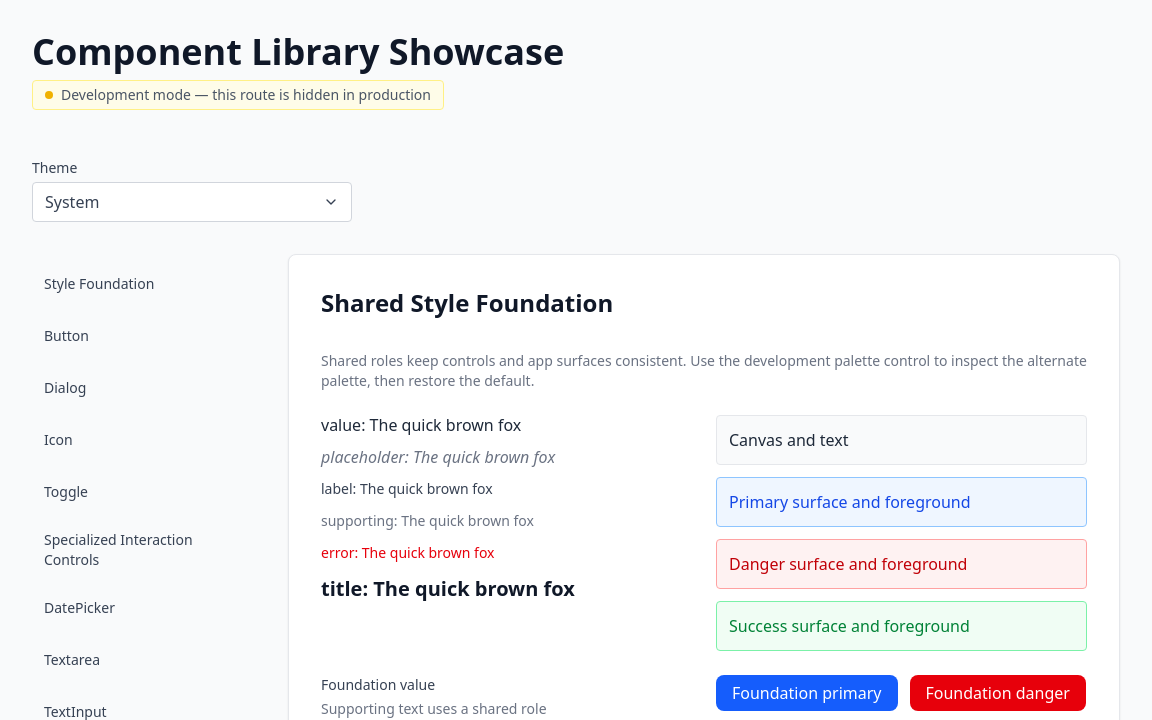
Test case: ComponentsPage theme selector › offers local system, light, dark, and diagnostic modes
Click the dropdown labelled "Theme".
click(180, 202)  # box [45, 192, 315, 212]
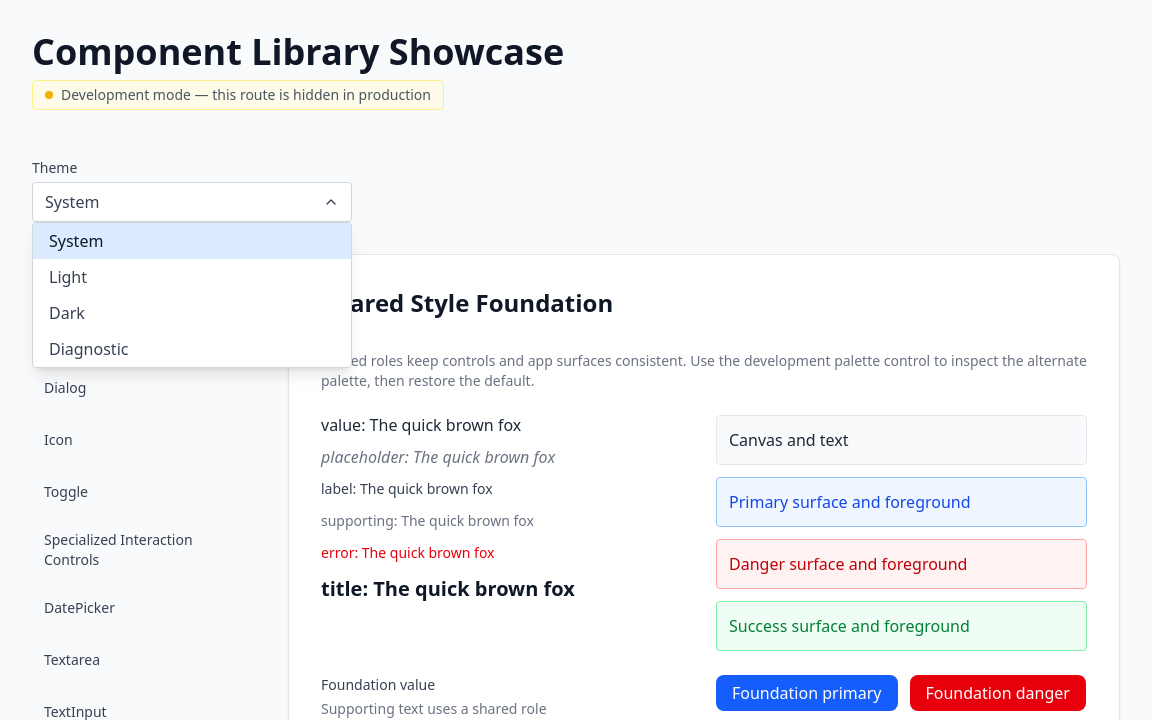
Result: the option "System" is shown at [33, 223, 351, 259]
Result: the option "Light" is shown at [33, 259, 351, 295]
Result: the option "Dark" is shown
Click the option "Dark".
click(67, 313)  # box [33, 295, 351, 331]
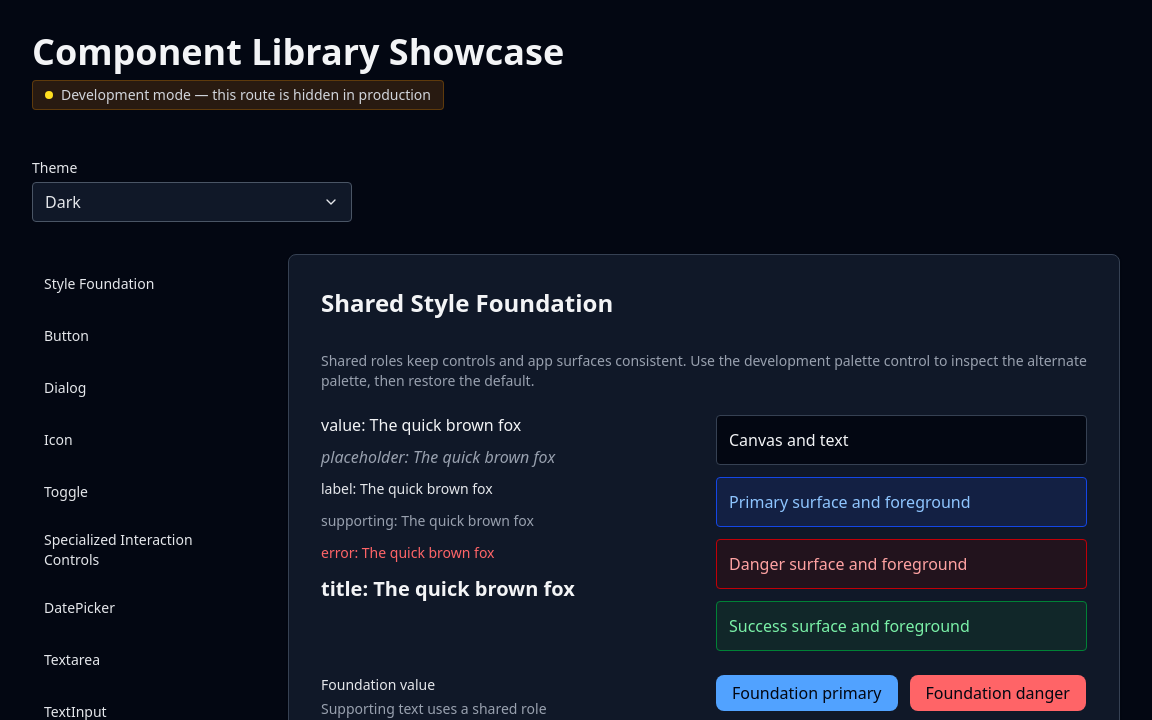
Result: the dropdown labelled "Theme" holds "Dark"
Click the dropdown labelled "Theme".
click(180, 202)  # box [45, 192, 315, 212]
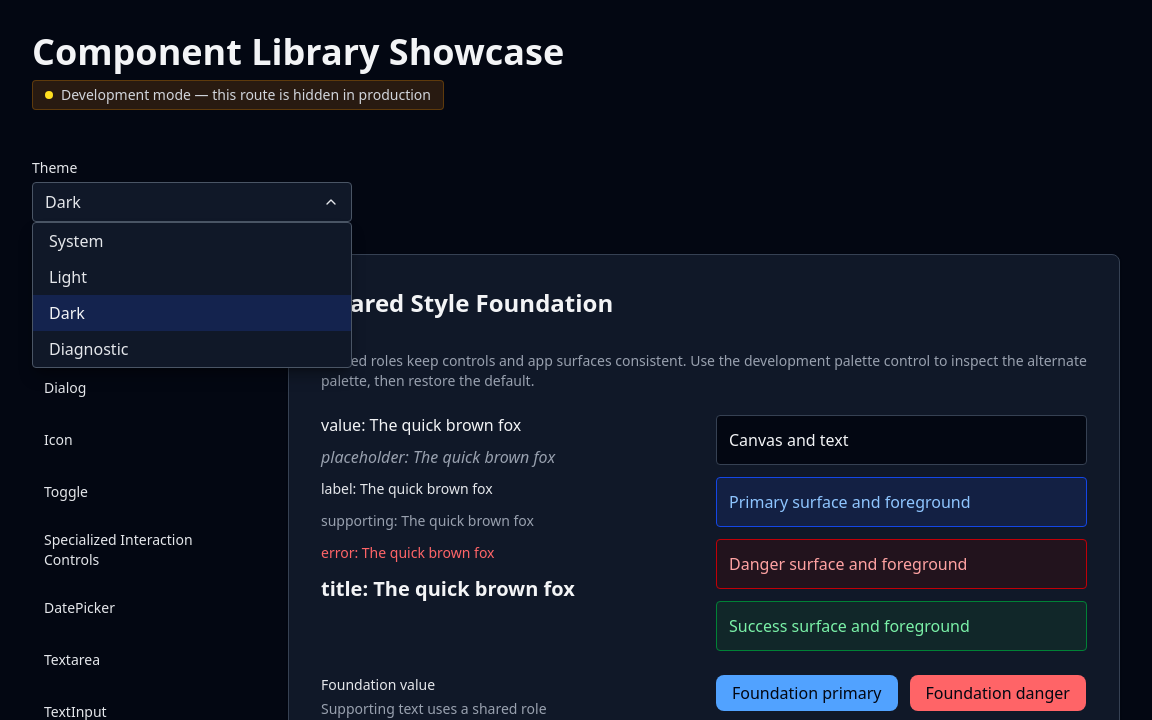
Click the option "Diagnostic".
click(89, 349)  # box [33, 331, 351, 367]
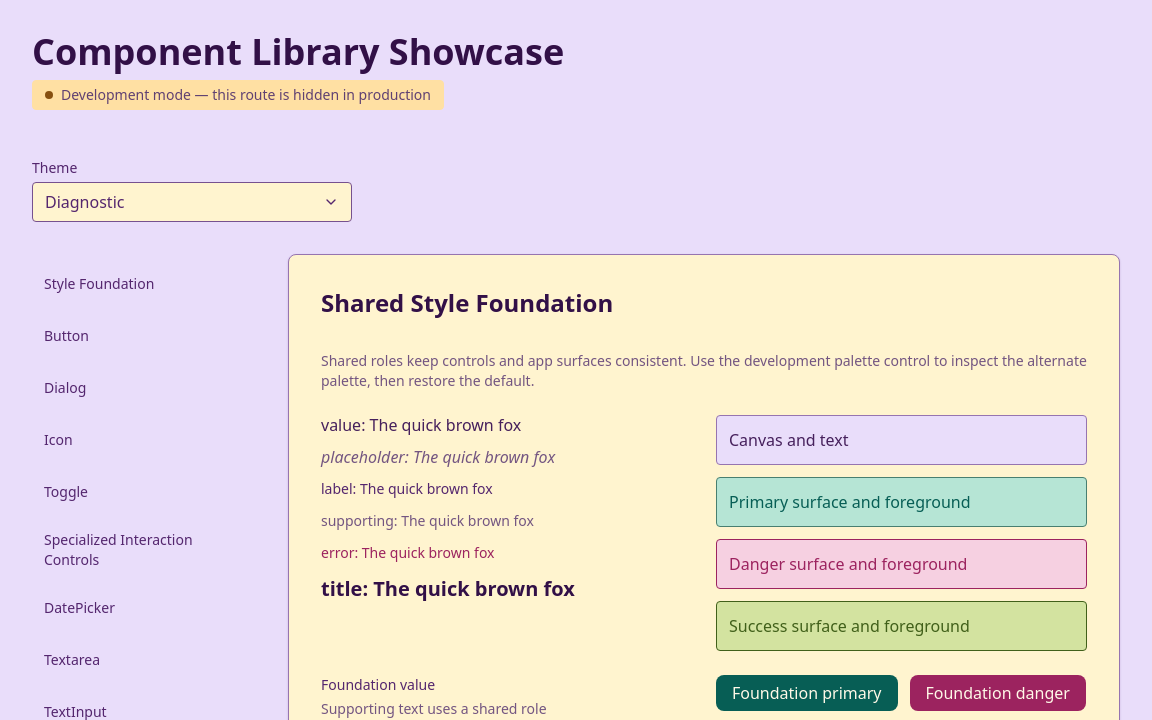
Result: the dropdown labelled "Theme" holds "Diagnostic"
Click the dropdown labelled "Theme".
click(180, 202)  # box [45, 192, 315, 212]
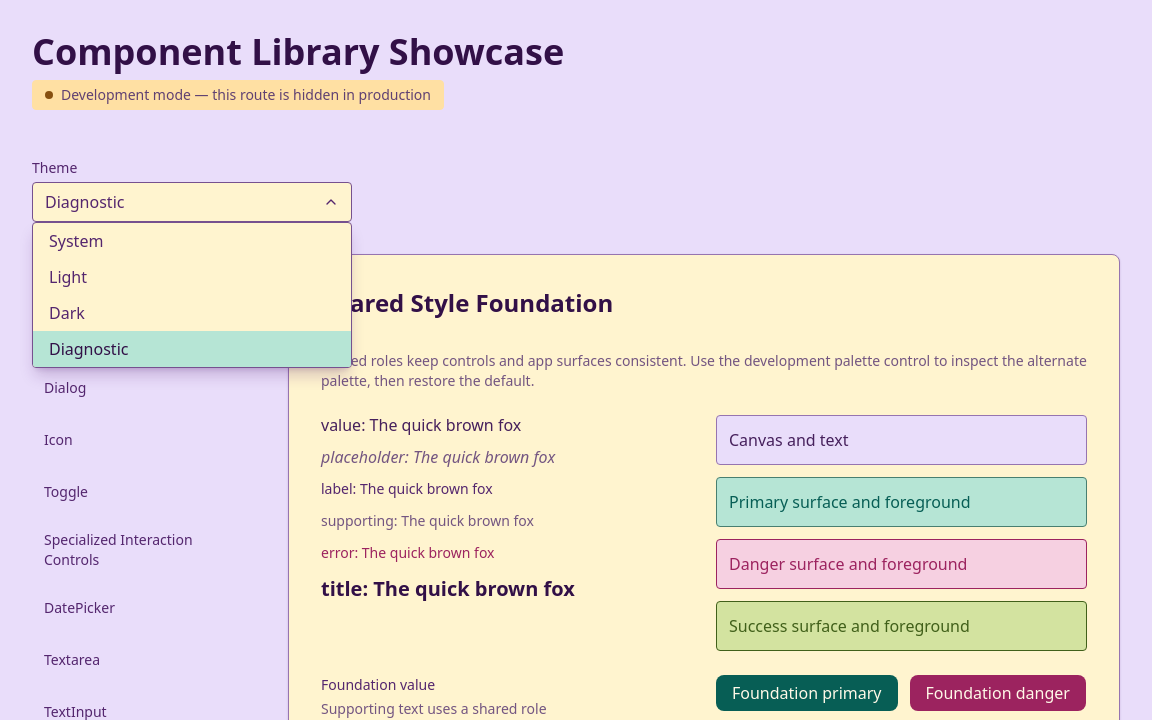
Click the option "Light".
click(68, 277)  # box [33, 259, 351, 295]
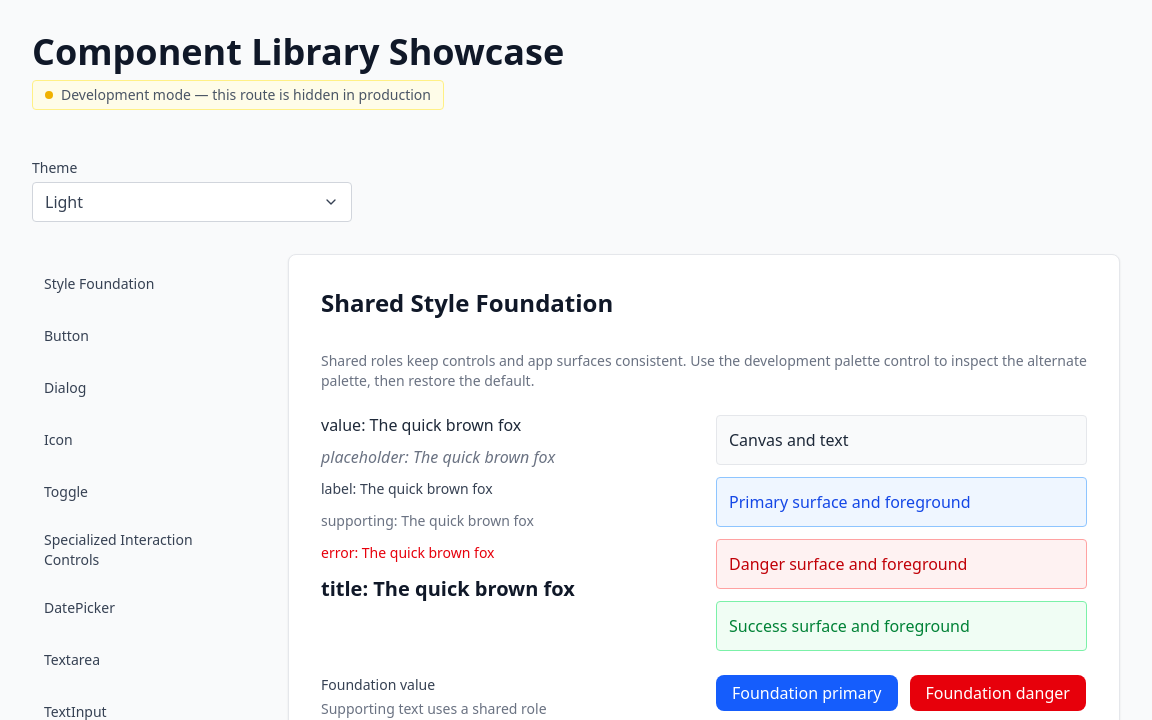
Result: the dropdown labelled "Theme" holds "Light" at [45, 192, 315, 212]
